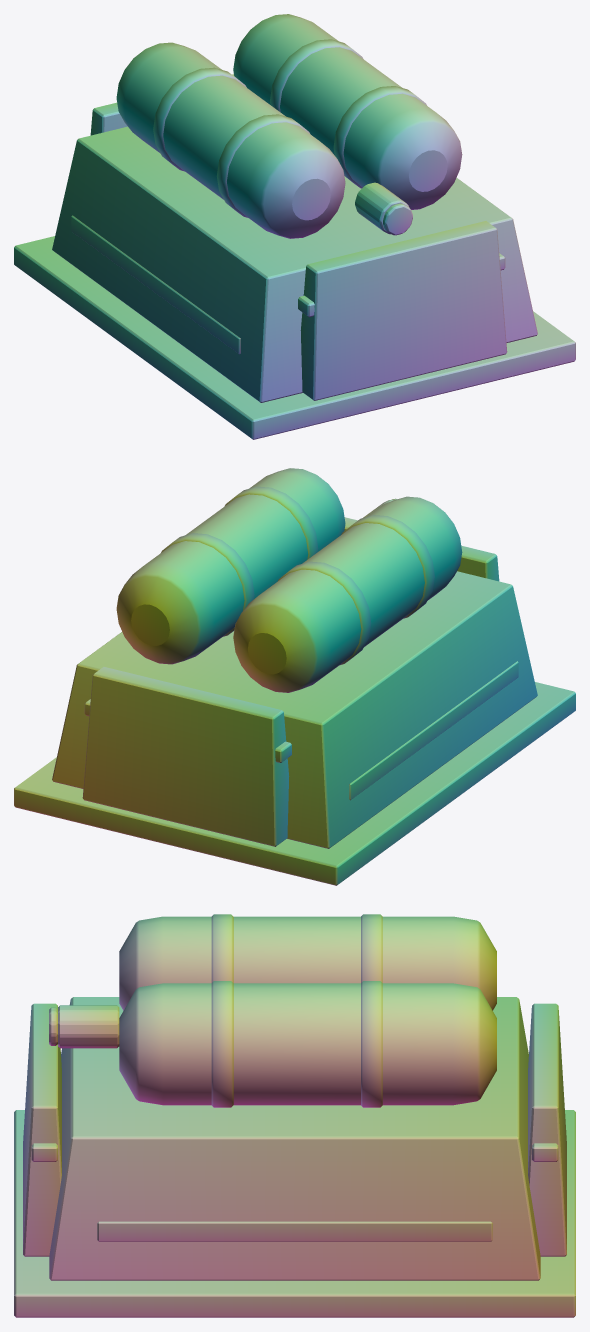
The model's file is module_napalm_rig.glb.
The picture shows the model from 3 angles, top to bottom: view 1: azimuth 30°, elevation 25°; view 2: azimuth 150°, elevation 25°; view 3: azimuth 270°, elevation 25°; orthographic projection. The views are drawn at different scales.
Visible parts, largest first — view 1: body; view 2: body; view 3: body.
Boxes of the visible parts, <box> form: body: <box>14,14,575,439</box>; body: <box>14,468,575,885</box>; body: <box>14,914,575,1317</box>.
Bounding box in the file's own units: 10 × 6.85 × 12.8.
